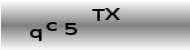5: (64, 22, 78, 35)
T: (91, 7, 106, 21)
X: (105, 7, 120, 21)
c: (46, 21, 57, 32)
q: (30, 28, 42, 41)
